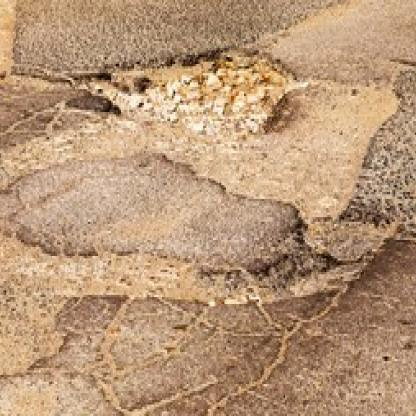pothole: (78, 48, 290, 158), (284, 75, 407, 224)
